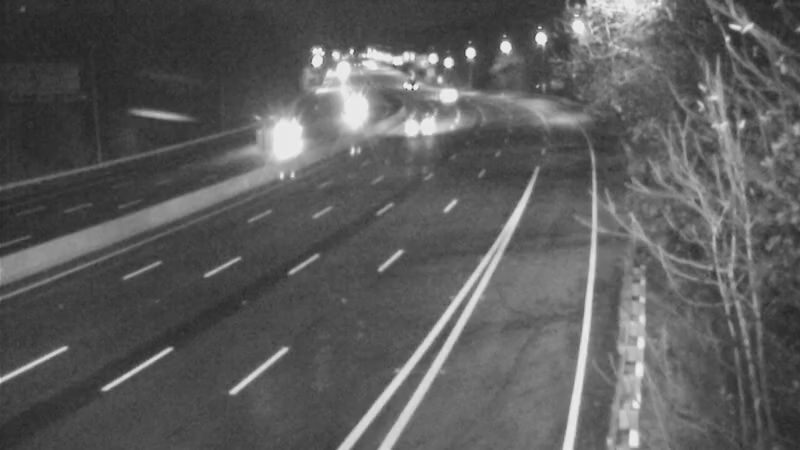vehicle: (383, 55, 433, 105), (419, 68, 469, 118), (394, 97, 444, 147), (260, 107, 310, 157), (331, 91, 381, 141)
